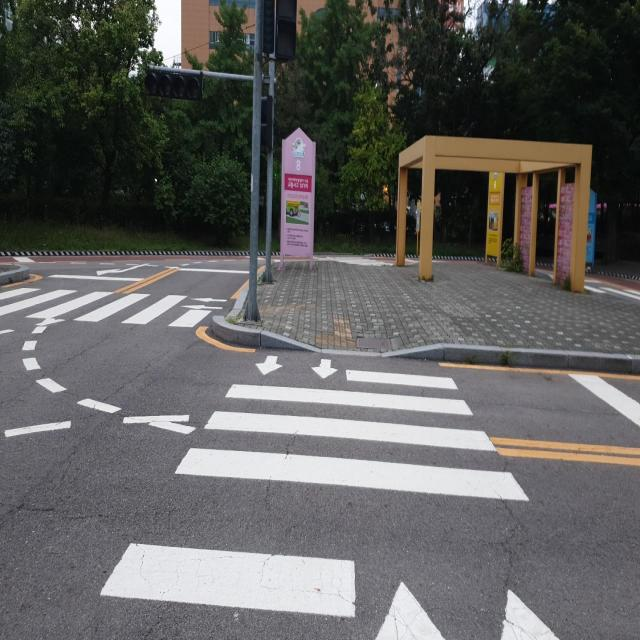횡단보도: (99, 351, 562, 640), (0, 284, 214, 331)
